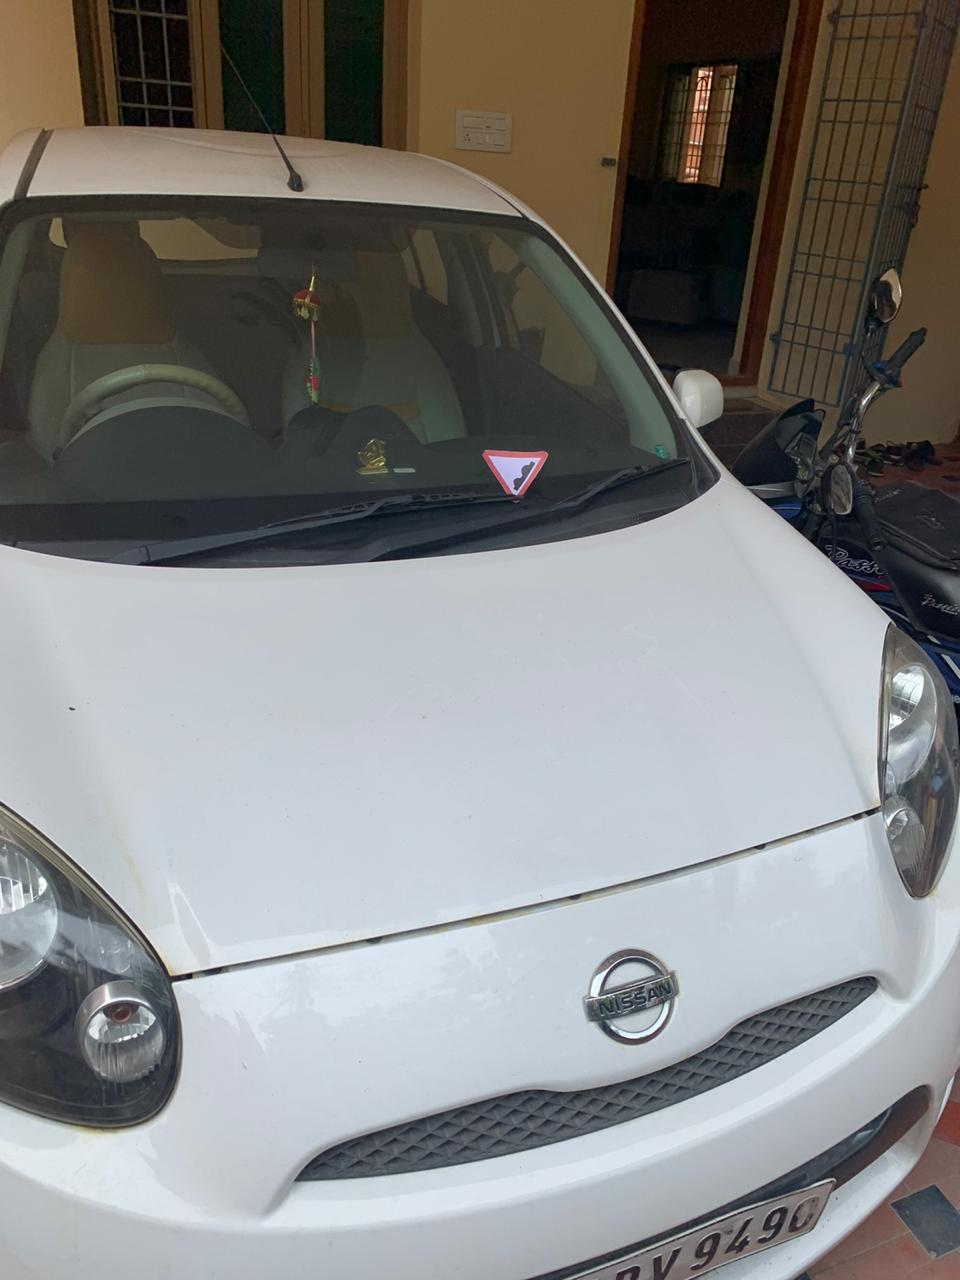UNEVEN ROAD: (476, 446, 556, 500)
